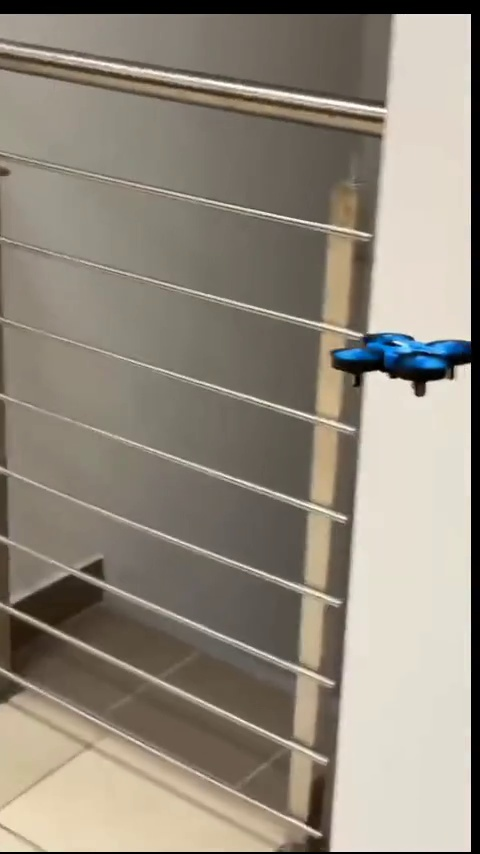drone: (334, 332, 470, 390)
